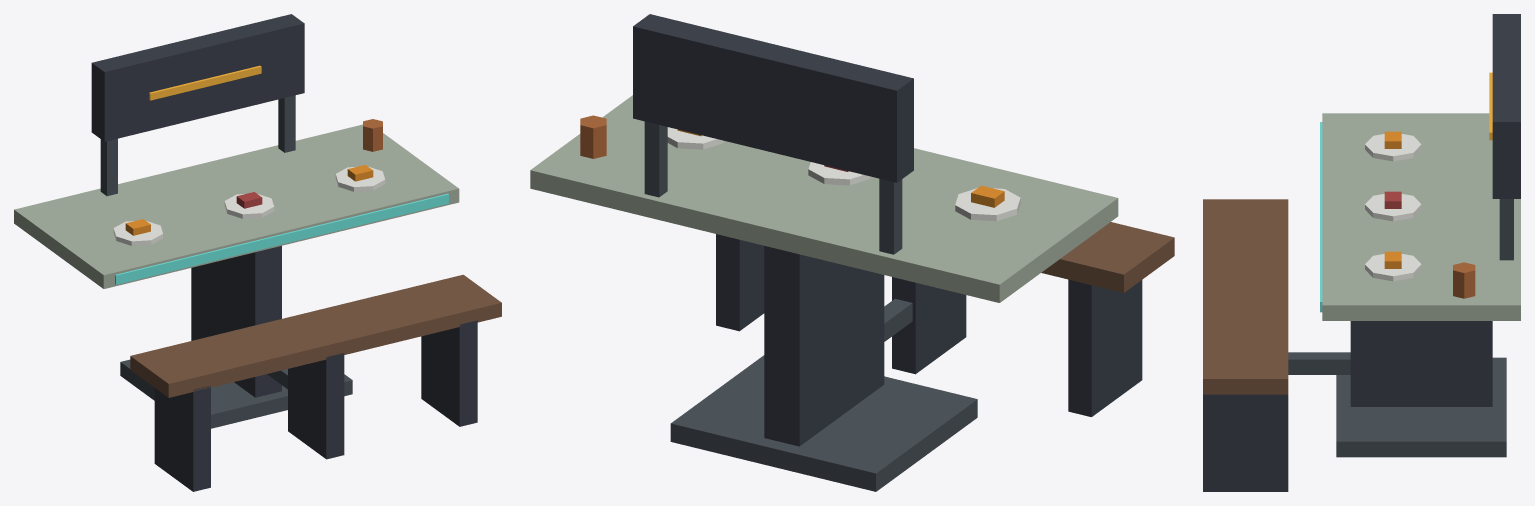
Rendered from GV_ShipMess_01.glb.
3 renders of one model, left to right at view 1: azimuth 30°, elevation 25°; view 2: azimuth 150°, elevation 25°; view 3: azimuth 270°, elevation 25°, orthographic. The views are drawn at different scales.
Visible parts, largest first — view 1: GV_ShipMess_01; view 2: GV_ShipMess_01; view 3: GV_ShipMess_01.
Boxes of the visible parts, left/top/right/bottom form: GV_ShipMess_01: left=14, top=14, right=501, bottom=491; GV_ShipMess_01: left=530, top=14, right=1174, bottom=491; GV_ShipMess_01: left=1203, top=14, right=1520, bottom=491.
Bounding box in the file's own units: 1.6 × 1.35 × 1.12.
1 material, 1 textured.
